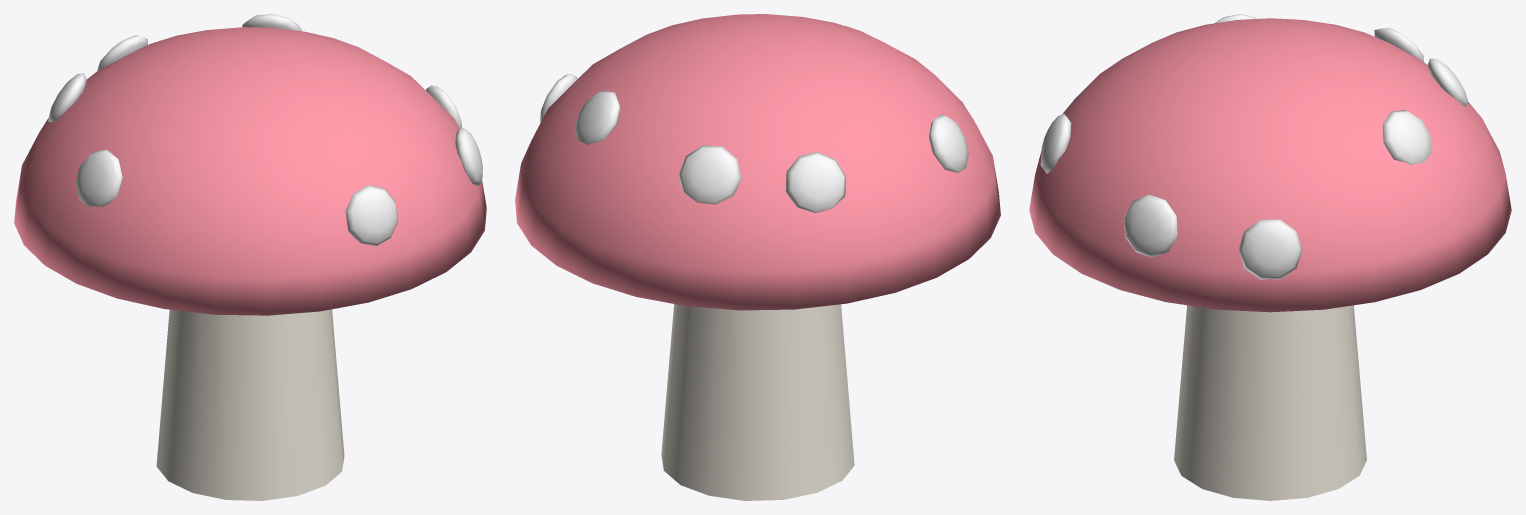
Rendered from mushroom.glb.
3 renders of one model, left to right at view 1: azimuth 30°, elevation 25°; view 2: azimuth 150°, elevation 25°; view 3: azimuth 270°, elevation 25°, orthographic. The views are drawn at different scales.
Parts seen in each view (by area): view 1: MushCap, MushStem, MushSpot2, MushSpot4, MushSpot5, MushSpot1, MushSpot6, MushSpot3; view 2: MushCap, MushStem, MushSpot6, MushSpot1, MushSpot3, MushSpot4, MushSpot0; view 3: MushCap, MushStem, MushSpot0, MushSpot5, MushSpot3, MushSpot2, MushSpot6, MushSpot1.
Part boxes in pixels (box(x1,y1,x2,y2)): MushCap: box(14, 27, 486, 315); MushStem: box(156, 309, 344, 500); MushSpot2: box(345, 185, 397, 246); MushSpot4: box(75, 149, 122, 206); MushSpot5: box(455, 127, 482, 186); MushSpot1: box(48, 73, 86, 122); MushSpot6: box(97, 35, 147, 70); MushSpot3: box(242, 14, 301, 31); MushCap: box(515, 14, 1000, 310); MushStem: box(661, 304, 854, 500); MushSpot6: box(678, 145, 741, 204); MushSpot1: box(785, 152, 845, 212); MushSpot3: box(574, 91, 620, 144); MushSpot4: box(929, 114, 968, 172); MushSpot0: box(540, 73, 577, 122); MushCap: box(1029, 18, 1511, 312); MushStem: box(1174, 305, 1366, 500); MushSpot0: box(1238, 219, 1302, 279); MushSpot5: box(1124, 194, 1177, 257); MushSpot3: box(1382, 110, 1431, 164); MushSpot2: box(1040, 114, 1071, 173); MushSpot6: box(1427, 58, 1468, 106); MushSpot1: box(1374, 27, 1423, 61).
Size of the model in its own units: 2.1 by 1.99 by 2.1.
